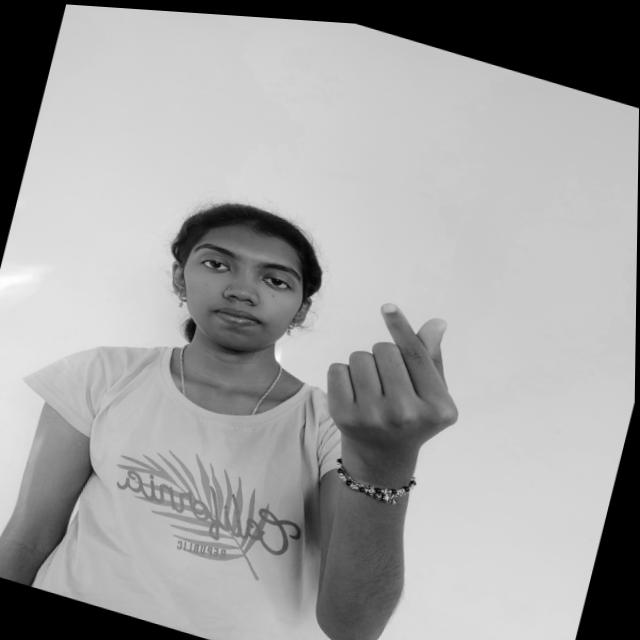Grattitude: (298, 266, 489, 481)
